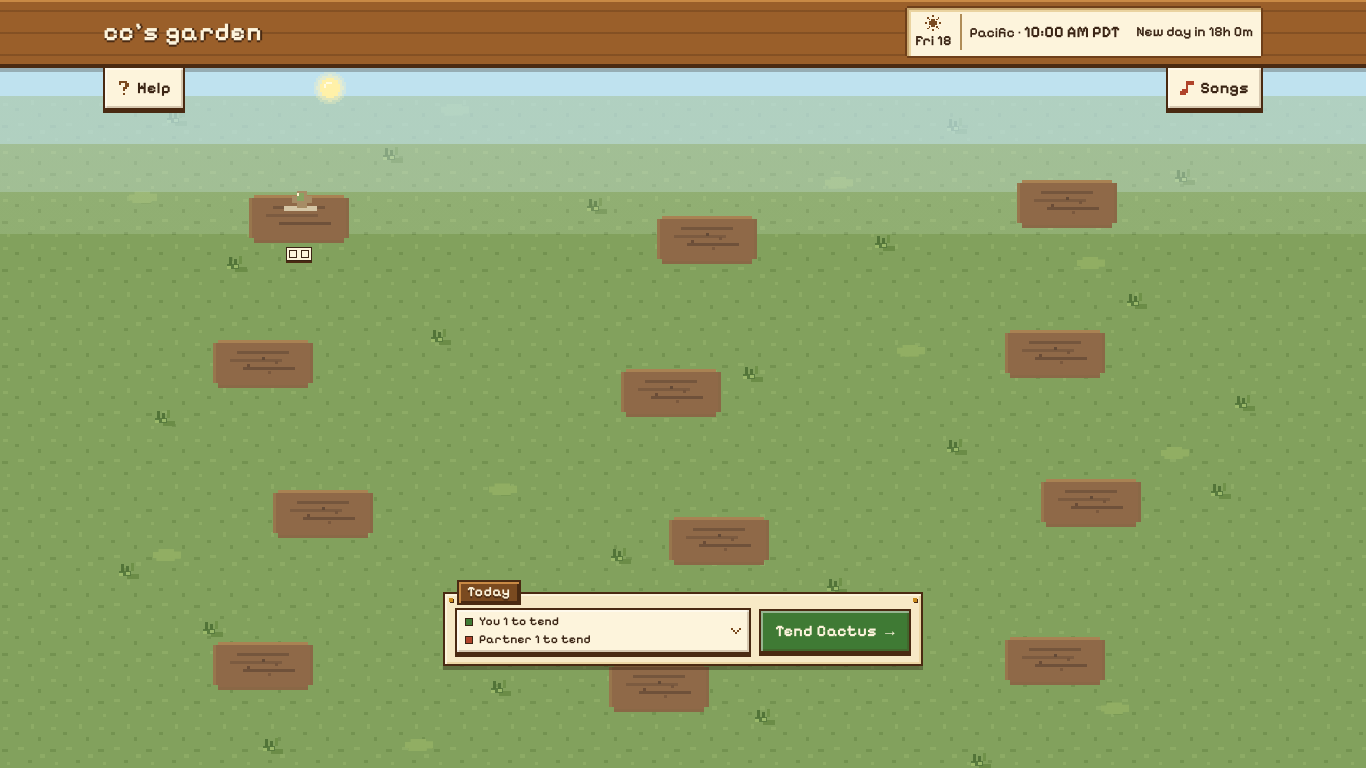
Scenario: keeps the picker open with the error when planting is rejected
Click the button named "Plant in spot 9" at {"x": 1091, "y": 479}, box [1034,414,1148,544]
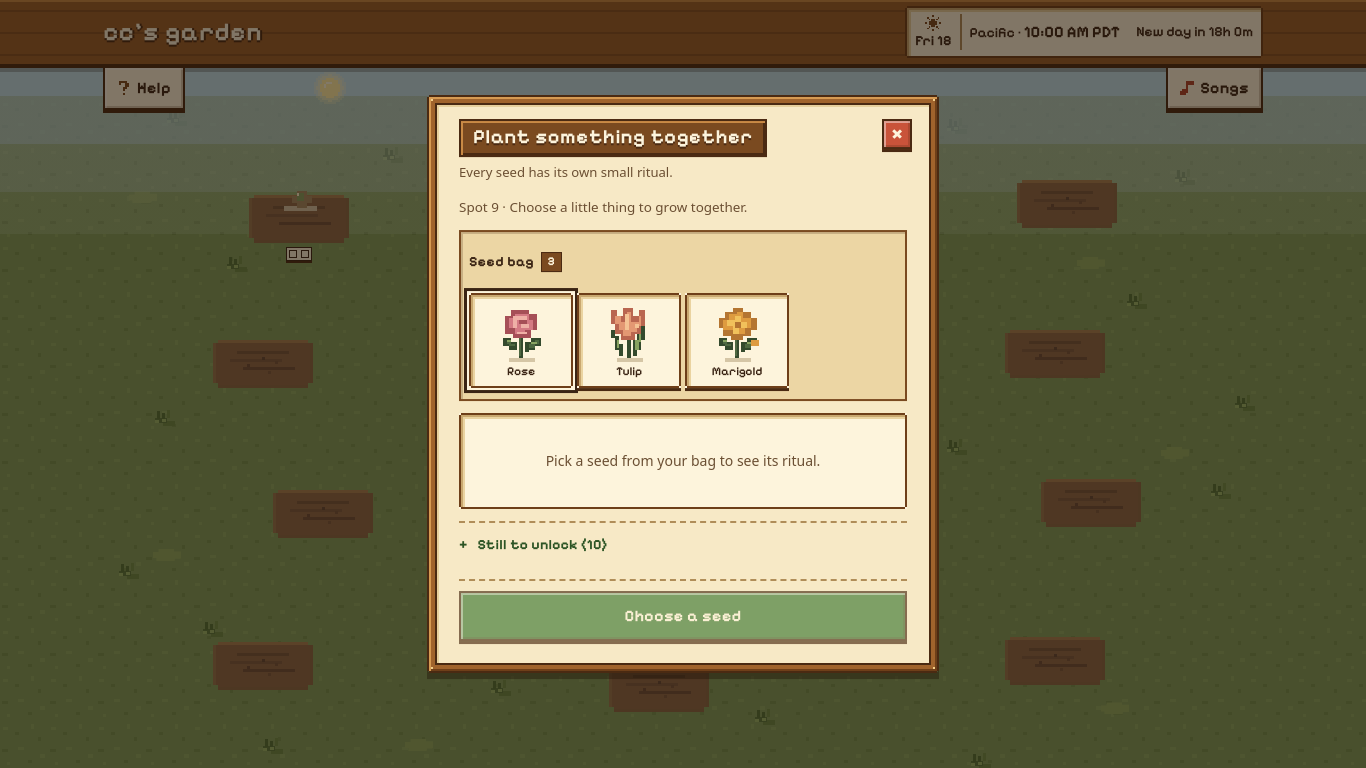
Click the button "Marigold" at {"x": 737, "y": 340}, box [685,293,789,388]
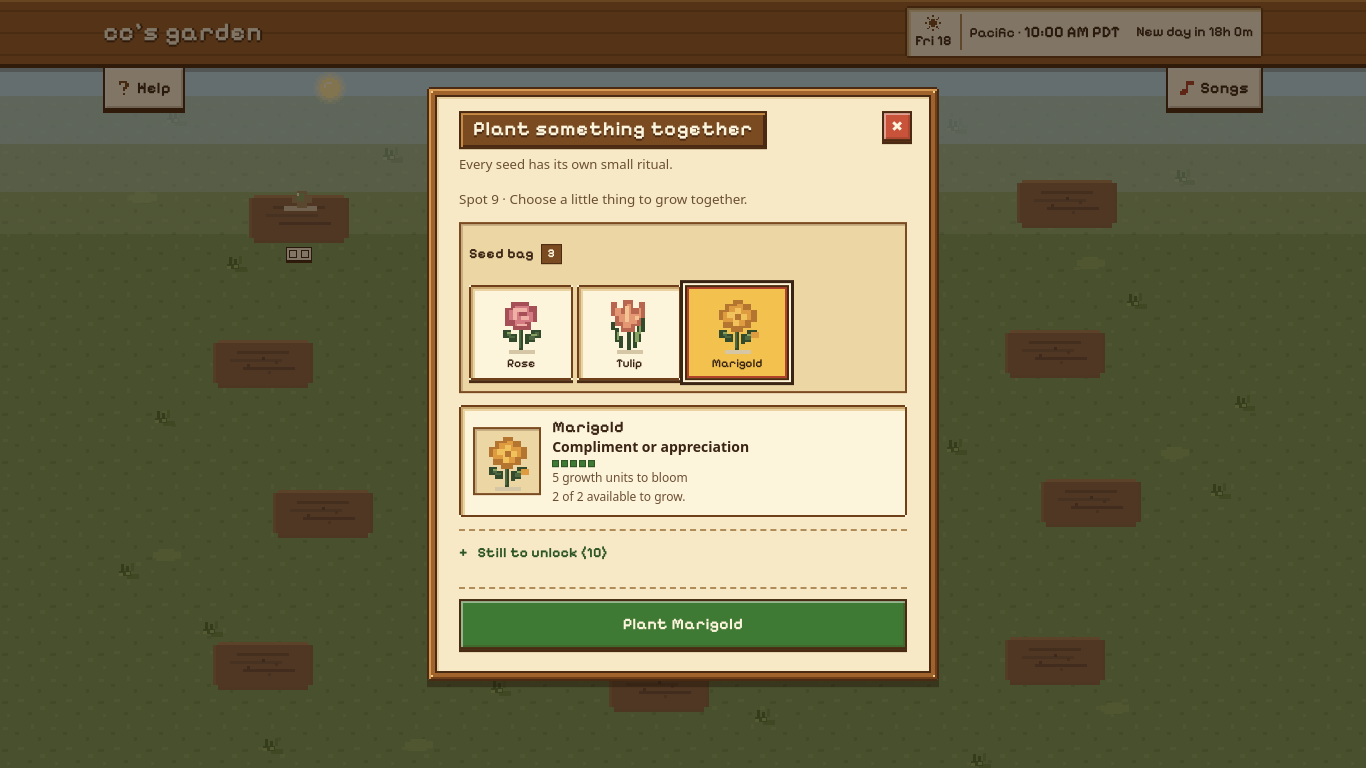
Click the button "Plant Marigold" at {"x": 683, "y": 624}, box [459,599,907,649]
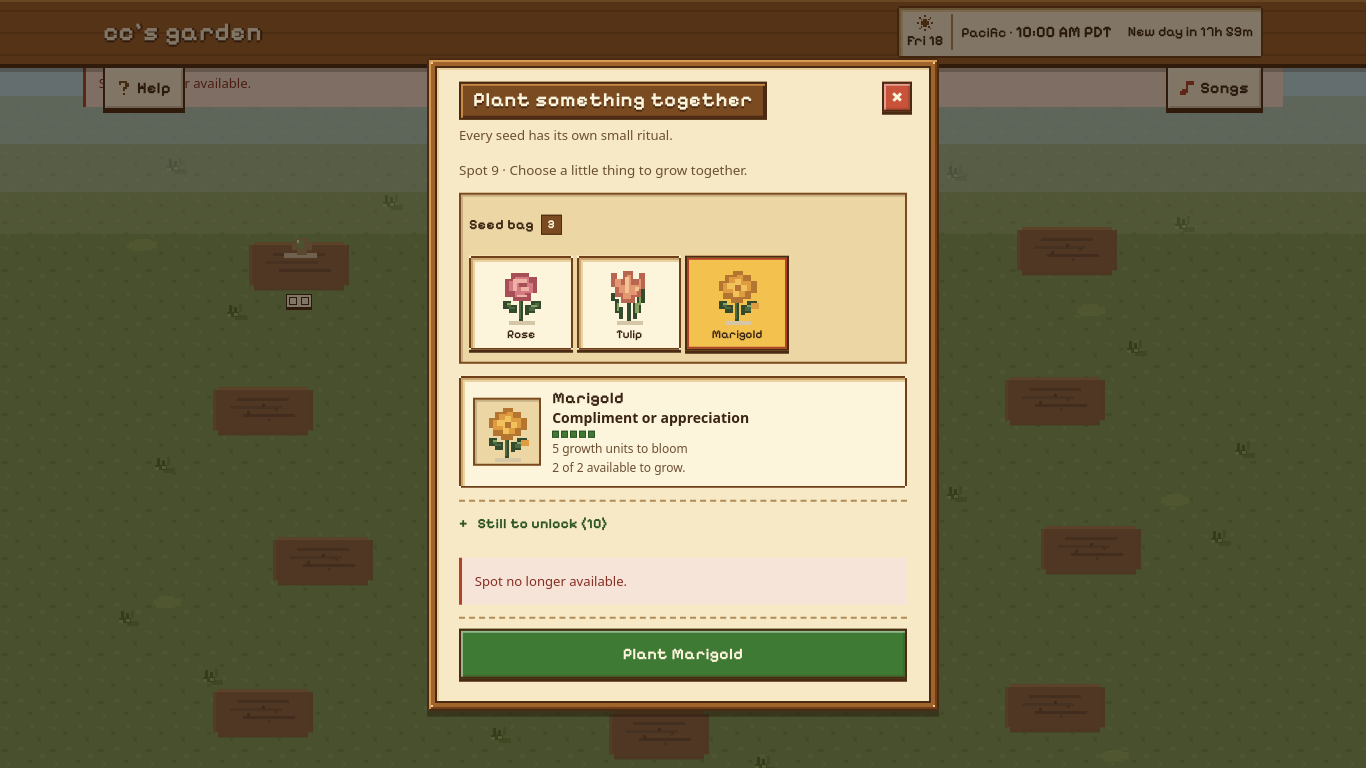
Expected: the dialog "Plant something together" is shown, [427,57,939,711]
Expected: the message reads "Spot no longer available.", [475,571,627,589]
